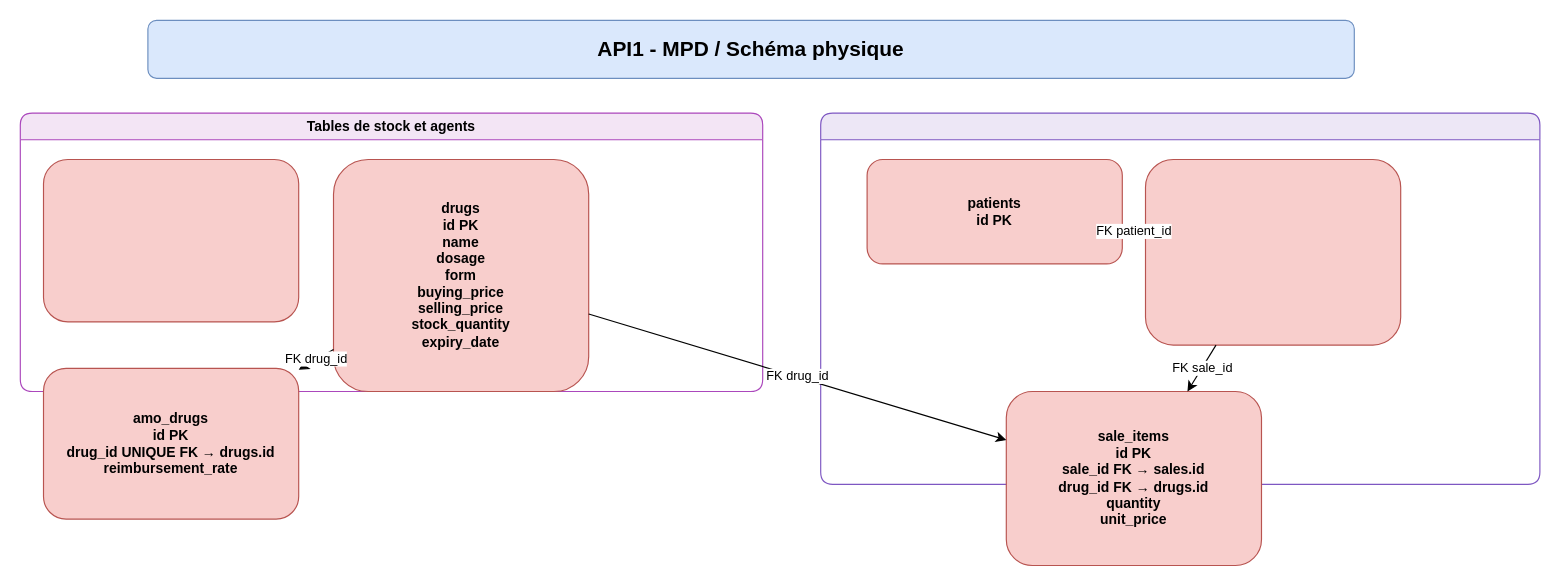
Some shapes in this 1560 by 586 pixel diagram are drawn without their labels. The shapes that lost their labels are listed below. From the top down, each one's box as (x1, y1, x2, y2) in pixels, then its label:
(42, 158, 299, 322): agents id PK agent_name agent_number UNIQUE created_at
(1144, 158, 1401, 345): sales id PK patient_id FK → patients.id total_amount payment_method created_at
(820, 112, 1540, 484): Tables de vente
